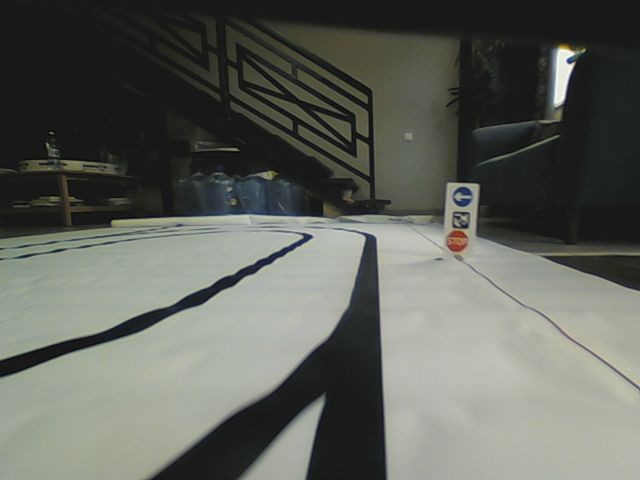Stop: (446, 229, 469, 251)
